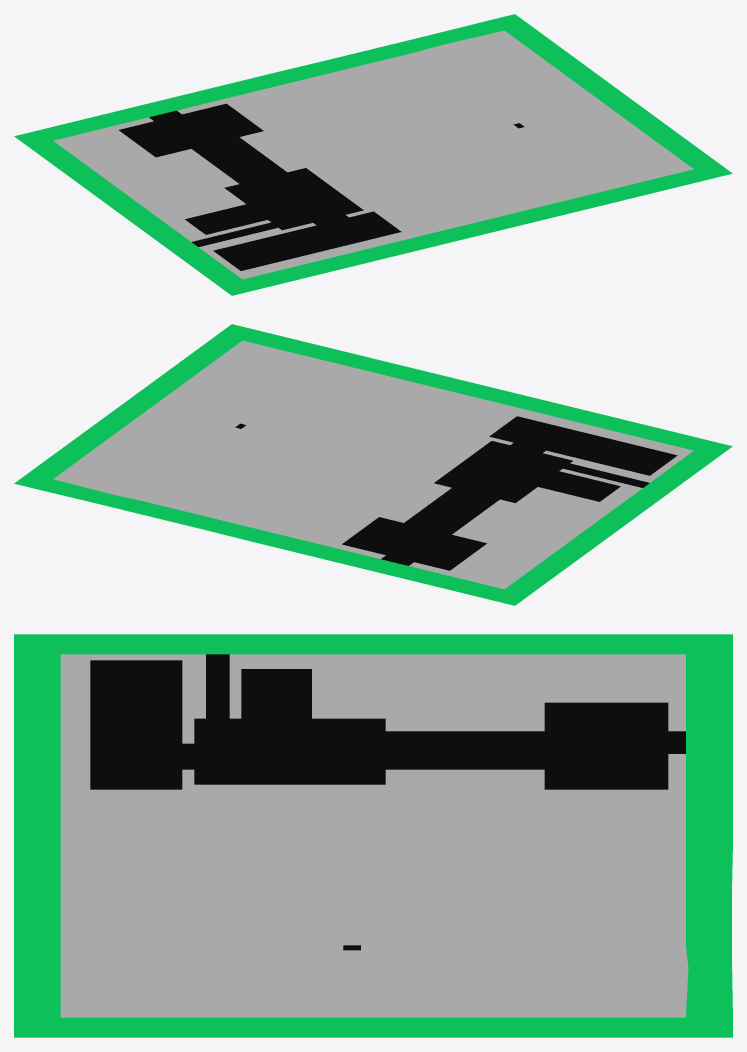
Rendered from Autodrom.fbx.
3 views of the same model, one above another, from view 1: azimuth 30°, elevation 25°; view 2: azimuth 150°, elevation 25°; view 3: azimuth 270°, elevation 25° (orthographic). The views are drawn at different scales.
Visible parts, largest first — view 1: group3; view 2: group3; view 3: group3.
Boxes of the visible parts, box(x1,y1,x2,y2) form: group3: box(14, 14, 732, 295); group3: box(14, 324, 732, 605); group3: box(14, 634, 732, 1037).
Size of the model in its own units: 162 by 1.7e-19 by 122.
